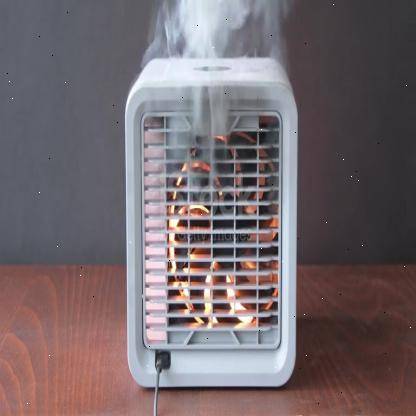smoke: (139, 0, 303, 209)
